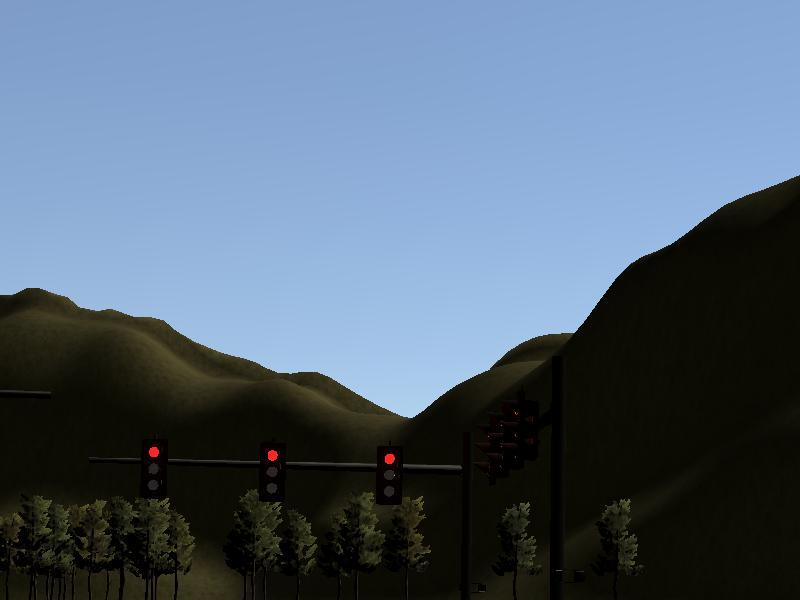Red: (375, 446, 401, 500), (144, 438, 166, 498), (260, 442, 284, 497)
